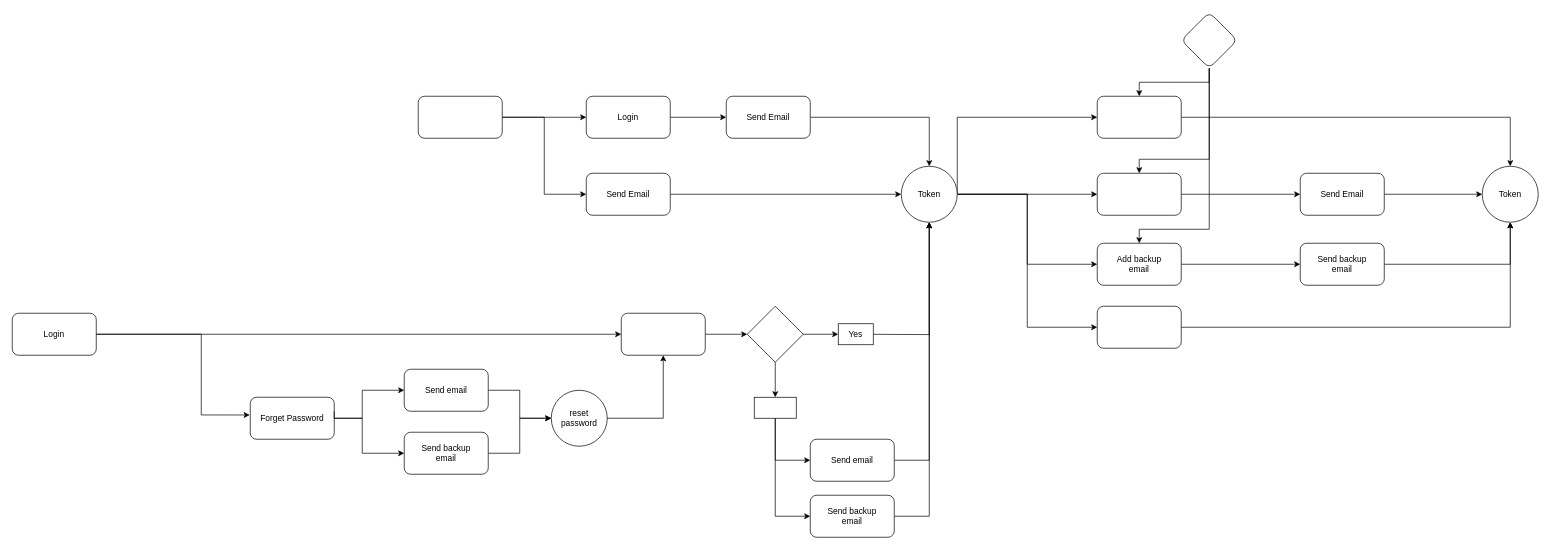
The diagram is 1551 pixels wide and 550 high, and some of its shapes have lost their labels. Here are the shapes that lost their labels. From the top down, the centre of each, then its label:
At [1209,40]: "Old Password".
At [460,117]: "Register new User".
At [1139,117]: "Change Password".
At [1139,194]: "Change Email".
At [663,334]: "login detail".
At [775,334]: "Session?".
At [1139,327]: "Remove backup email".
At [775,407]: "No".
